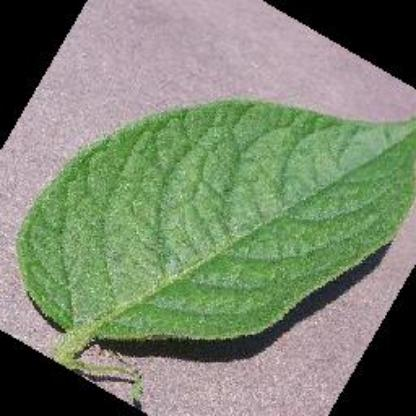Healthy-plant: (15, 37, 416, 359)
